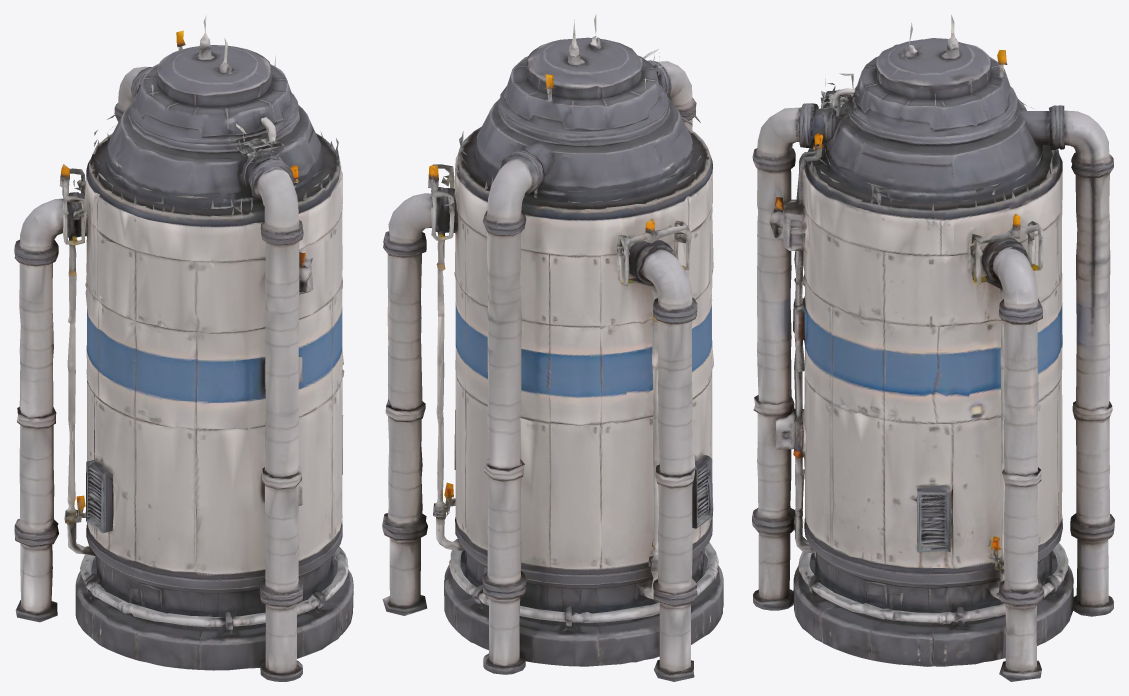
Rendered from processVessel.glb.
3 renders of one model, left to right at view 1: azimuth 30°, elevation 25°; view 2: azimuth 150°, elevation 25°; view 3: azimuth 270°, elevation 25°, orthographic.
Parts seen in each view (by area): view 1: processVessel; view 2: processVessel; view 3: processVessel.
Part boxes in pixels (left/top/right/bottom): processVessel: left=14, top=15, right=353, bottom=681; processVessel: left=382, top=14, right=723, bottom=681; processVessel: left=752, top=14, right=1114, bottom=681.
Size of the model in its own units: 17.45 by 32 by 17.72.
Materials: 1 (1 with a texture image).
